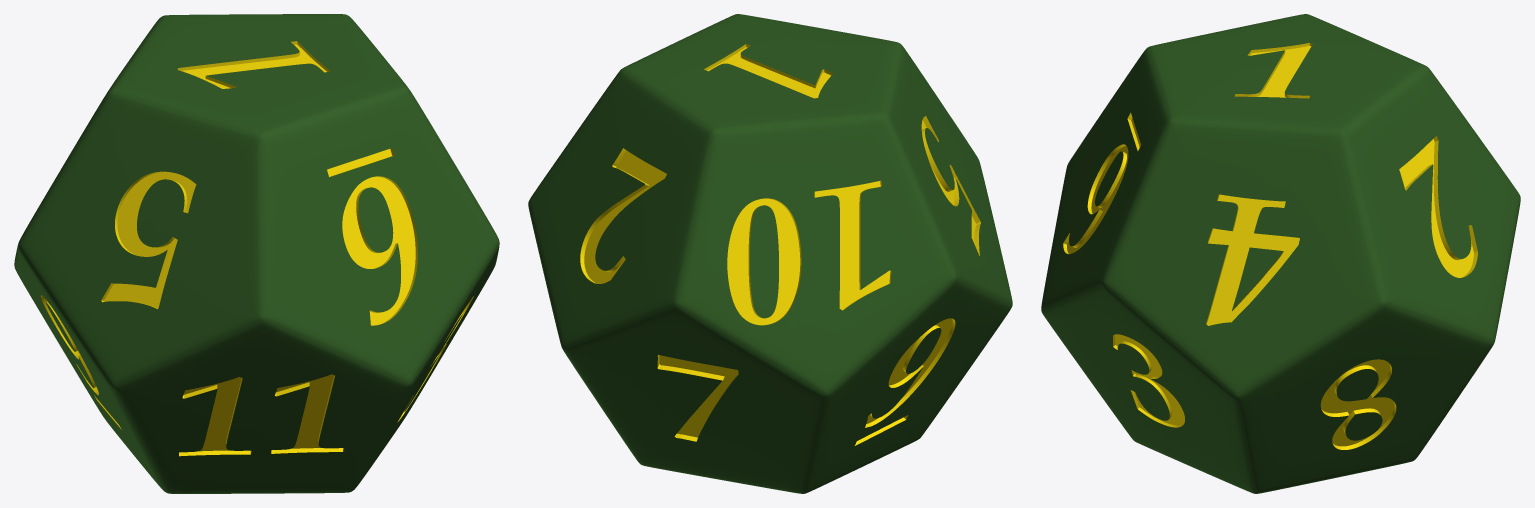
3 views of the same model, side by side, from view 1: azimuth 30°, elevation 25°; view 2: azimuth 150°, elevation 25°; view 3: azimuth 270°, elevation 25° (orthographic). The views are drawn at different scales.
Parts seen in each view (by area): view 1: D12; view 2: D12; view 3: D12.
Boxes of the visible parts, <box> form: D12: <box>14,14,499,493</box>; D12: <box>528,14,1012,493</box>; D12: <box>1041,14,1520,493</box>.
Size of what is drawn, in the model's own units: 0.3586 by 0.3016 by 0.3611.
